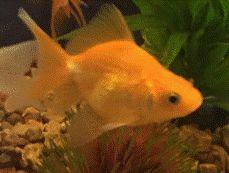Gold Fish: (7, 3, 203, 148)
